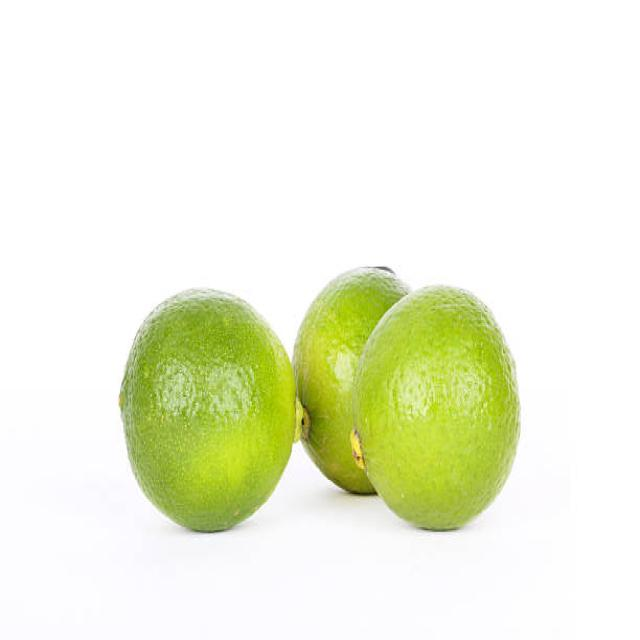Unripe: (117, 286, 302, 534), (352, 283, 522, 532)
